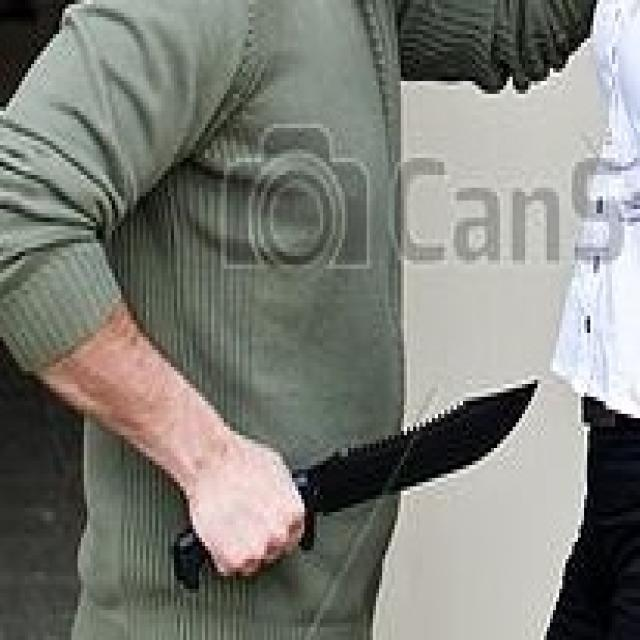knife: (294, 372, 558, 527)
